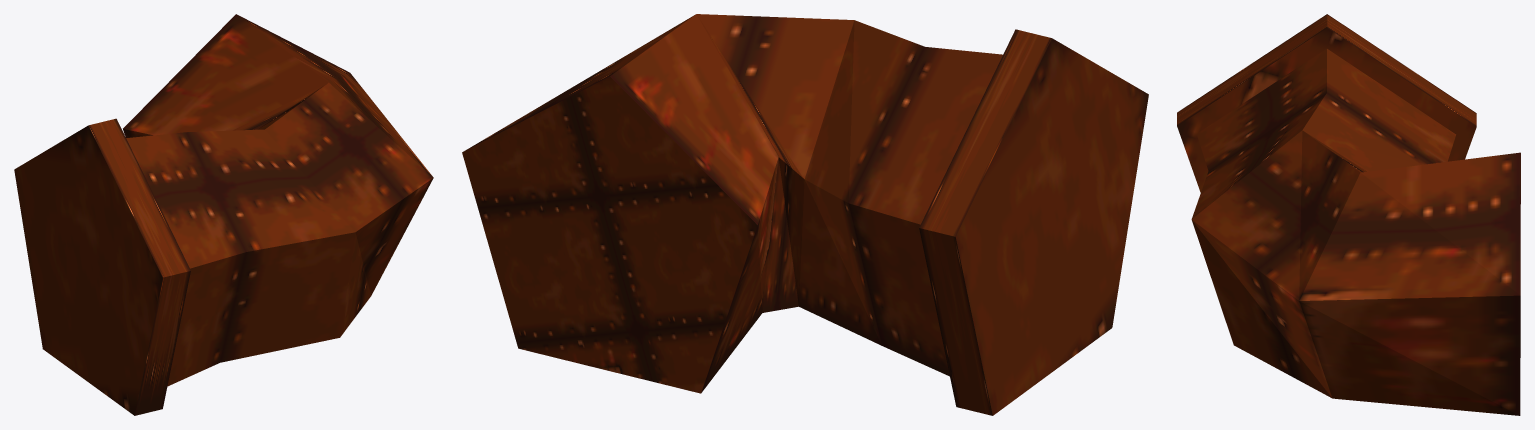
File: Rohr_StückKurveGedreht_943.glb
3 renders of one model, left to right at view 1: azimuth 30°, elevation 25°; view 2: azimuth 150°, elevation 25°; view 3: azimuth 270°, elevation 25°, orthographic. The views are drawn at different scales.
Visible parts, largest first — view 1: pCylinderShape79, pCylinderShape78; view 2: pCylinderShape79, pCylinderShape78; view 3: pCylinderShape79, pCylinderShape78.
Boxes of the visible parts, bbox=[...] form: pCylinderShape79: bbox=[123, 14, 433, 386]; pCylinderShape78: bbox=[14, 118, 190, 415]; pCylinderShape79: bbox=[462, 14, 1002, 393]; pCylinderShape78: bbox=[919, 29, 1148, 415]; pCylinderShape79: bbox=[1191, 48, 1520, 415]; pCylinderShape78: bbox=[1177, 14, 1476, 192].
Size of the model in its own units: 1.11 by 0.7657 by 0.9207.
2 materials, 2 textured.
